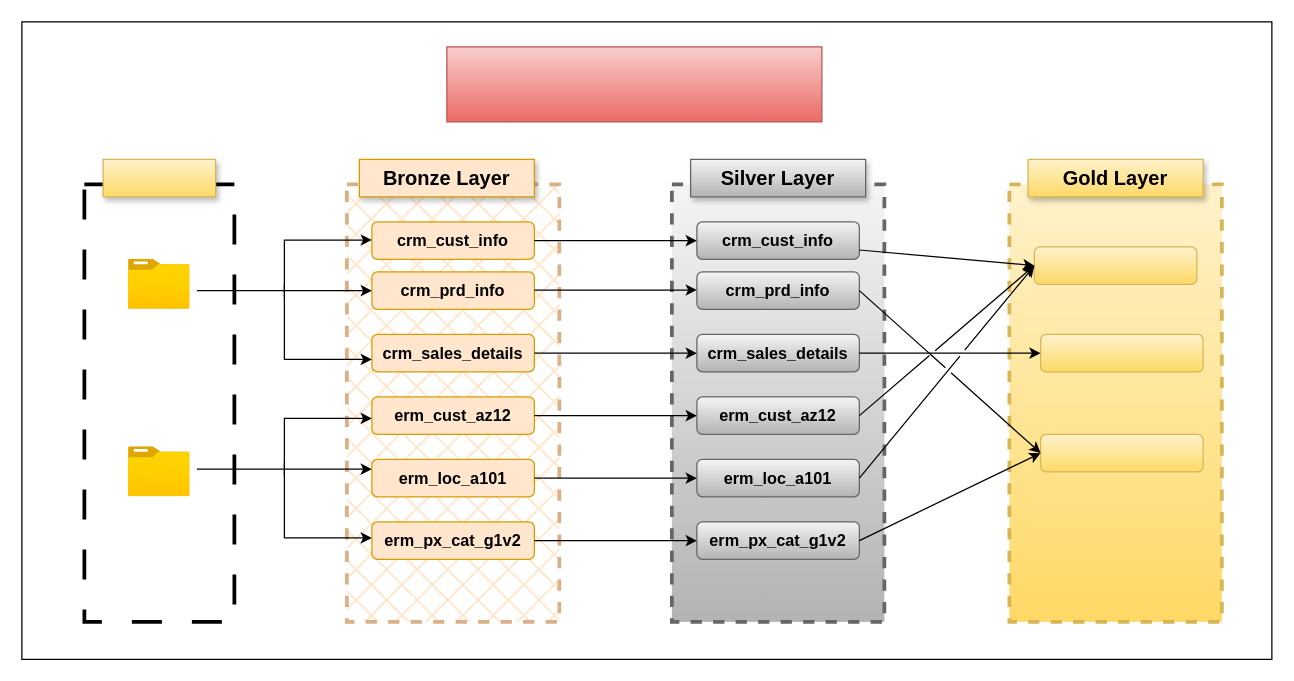
Image size: 1294x681. Some labels were removed from this diagram. Each missing label, with the centre of its shape:
CRM: [159,284]
Data Flow Diagram Between the layers: [634,84]
dim_customers: [1115,265]
dim_prodcuts: [1121,452]
ERP: [159,471]
fact_sales: [1121,352]
Sources: [160,179]
